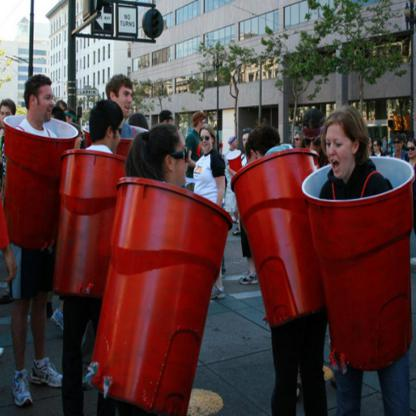face: (165, 131, 192, 185), (327, 125, 354, 179), (107, 114, 124, 159), (36, 88, 55, 122), (304, 132, 324, 162), (116, 86, 134, 119), (246, 148, 262, 182), (1, 105, 14, 129), (200, 131, 212, 152), (164, 115, 175, 133), (73, 132, 84, 150), (243, 135, 252, 151), (408, 142, 416, 159), (199, 117, 207, 133), (295, 133, 303, 147), (394, 139, 402, 152), (63, 112, 70, 125), (367, 138, 372, 150), (374, 142, 379, 153), (233, 140, 239, 149)
